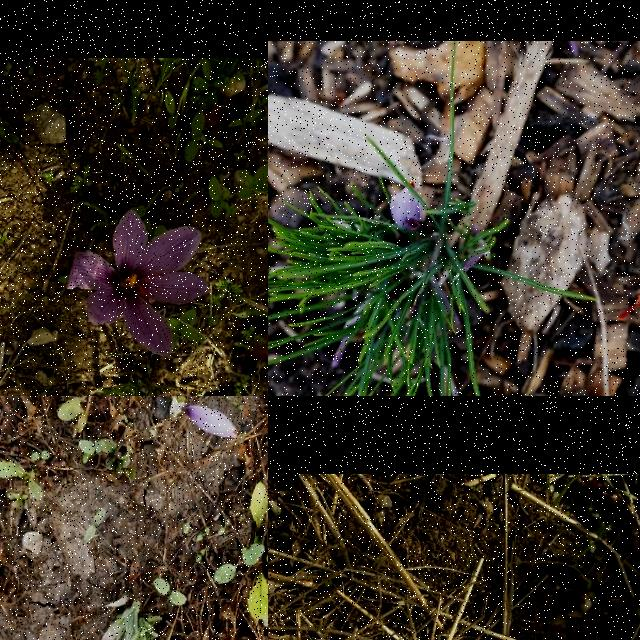flower: (66, 208, 212, 358), (617, 227, 640, 322), (182, 406, 238, 439)
